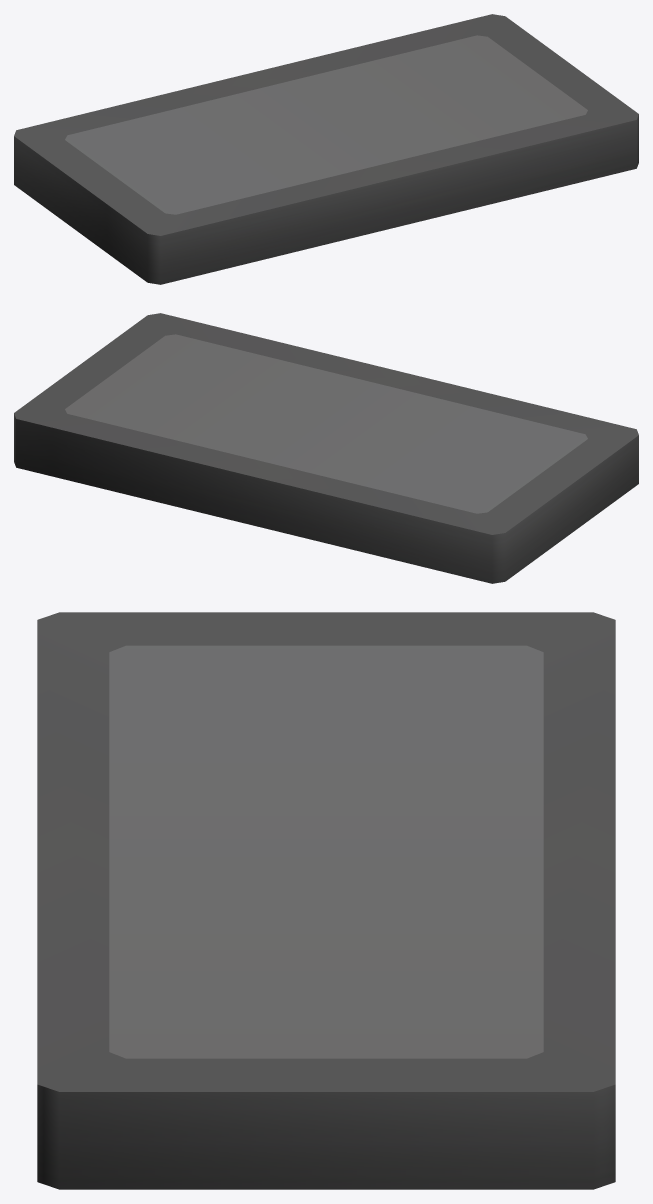
The model's file is Grave_6.obj.
3 renders of one model, top to bottom at view 1: azimuth 30°, elevation 25°; view 2: azimuth 150°, elevation 25°; view 3: azimuth 270°, elevation 25°, orthographic. The views are drawn at different scales.
Parts seen in each view (by area): view 1: Grave_6; view 2: Grave_6; view 3: Grave_6.
Part boxes in pixels (box(x1,y1,x2,y2)): Grave_6: box(14, 14, 638, 284); Grave_6: box(14, 313, 638, 583); Grave_6: box(37, 612, 615, 1189).
Size of the model in its own units: 1.69 by 0.1603 by 0.8601.
